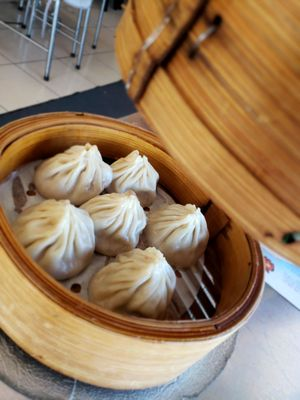sushi: (0, 119, 267, 397)
